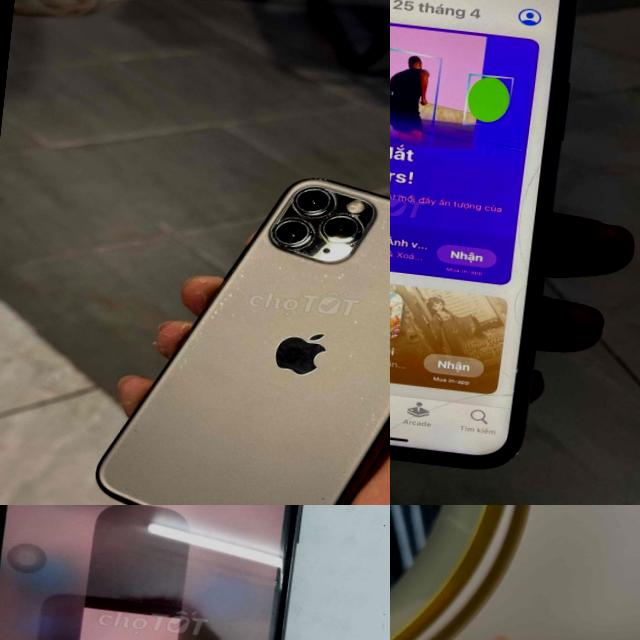gen_11: (87, 153, 390, 505), (0, 505, 328, 640)
gen_x_xs: (390, 0, 583, 479)
